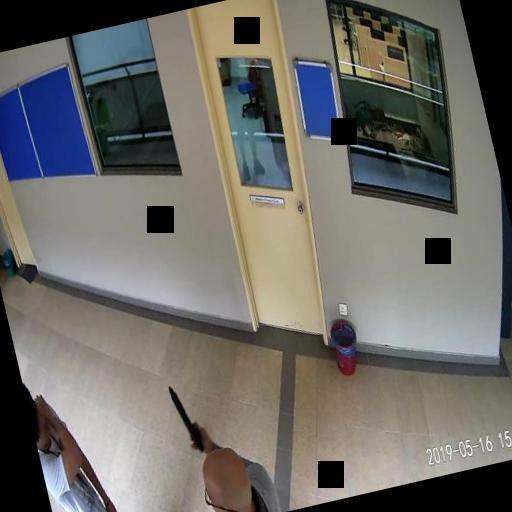Handgun: (167, 382, 204, 454)
